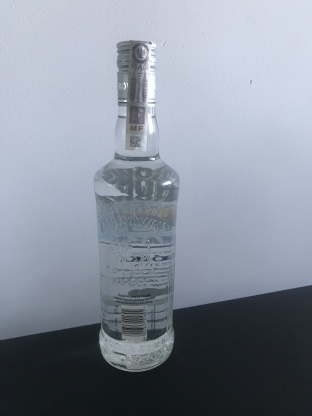nakretka: (114, 36, 159, 110)
